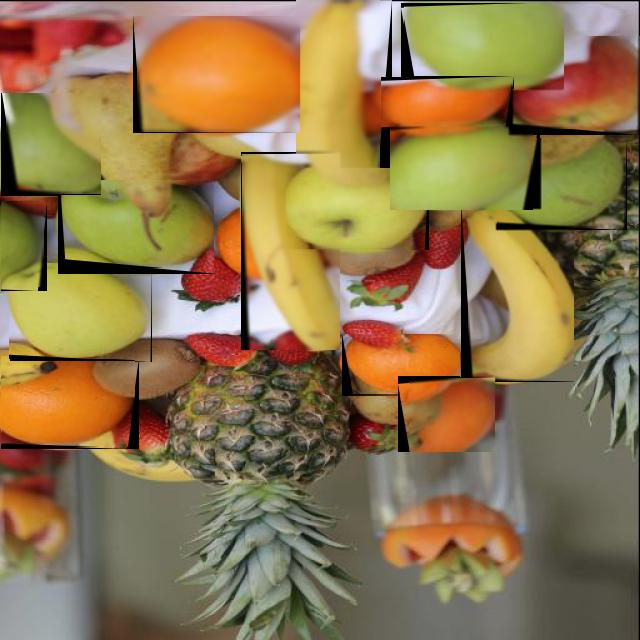Apple: (9, 263, 151, 359), (404, 4, 563, 89), (60, 181, 213, 268), (390, 121, 533, 210), (509, 36, 640, 129), (497, 139, 625, 228), (286, 169, 427, 249), (6, 93, 100, 194), (2, 202, 43, 287)
Banana: (242, 155, 340, 349), (468, 205, 574, 381), (296, 0, 379, 189)
Orange: (137, 16, 299, 132), (2, 357, 134, 447), (345, 334, 460, 395), (409, 378, 495, 451), (381, 80, 512, 126)
